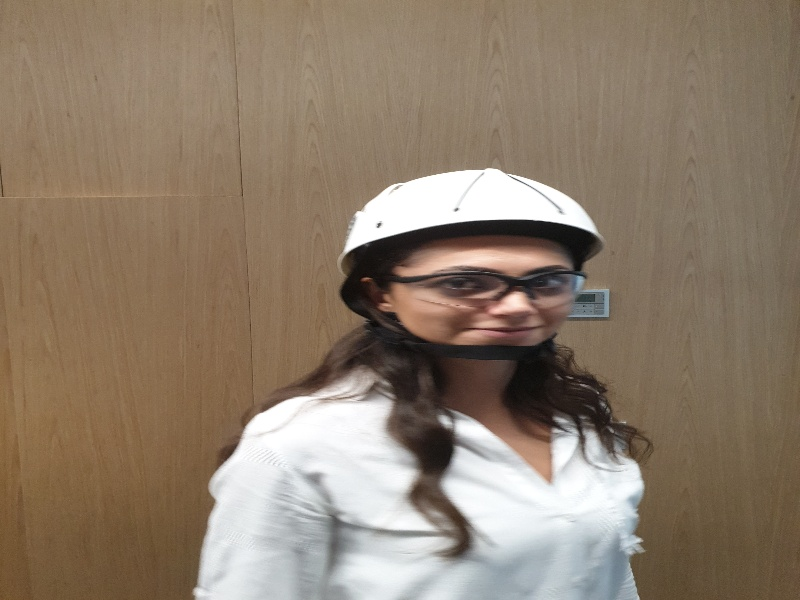Baret: (344, 168, 599, 246)
Gozluk: (382, 271, 591, 303)
